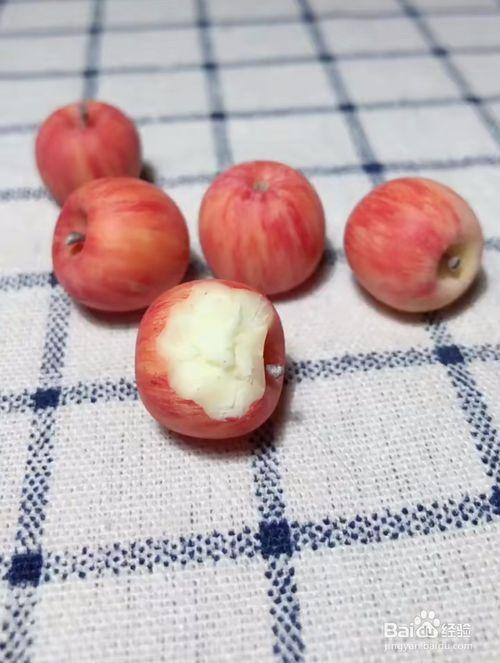apple: (50, 171, 190, 314), (347, 173, 483, 313), (200, 163, 327, 297), (34, 96, 140, 207)
